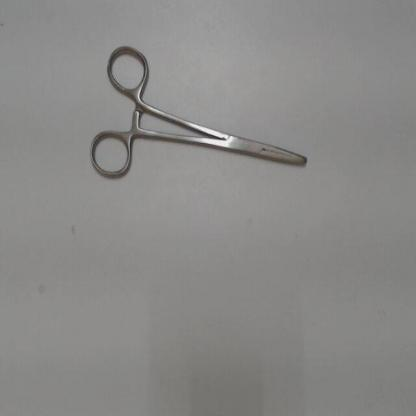Mayo Needle Holder: (84, 35, 314, 188)
